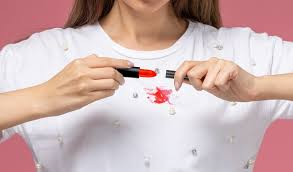kimchi: (148, 88, 172, 107)
